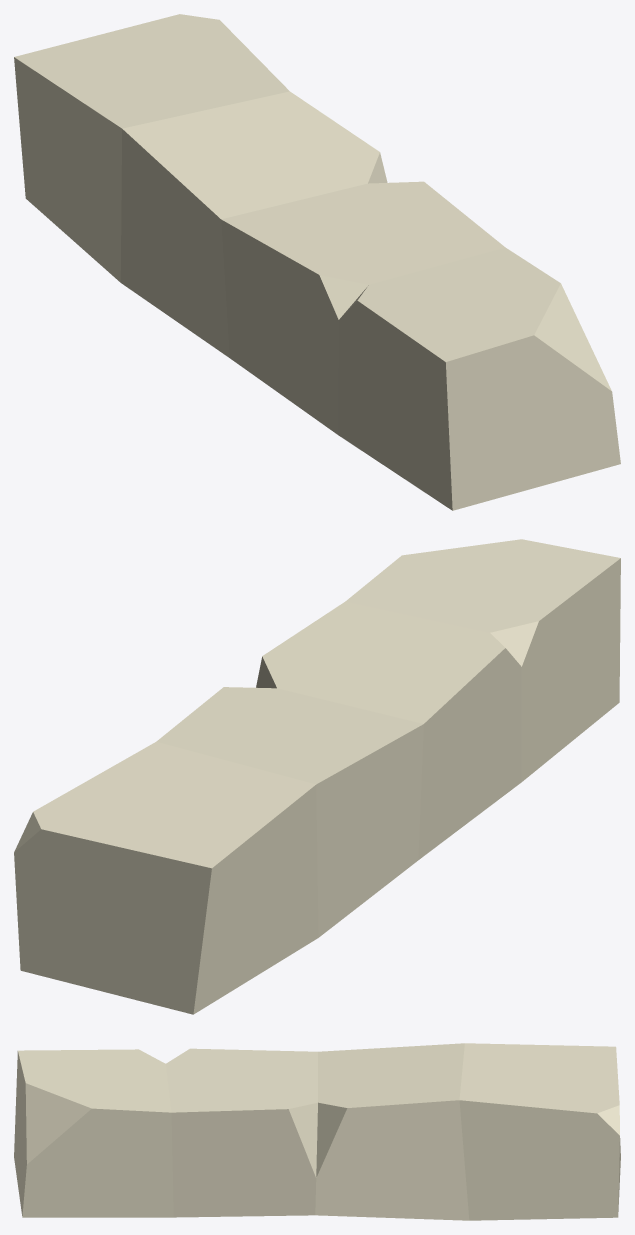
File: Ruin_1.fbx
3 renders of one model, top to bottom at view 1: azimuth 30°, elevation 25°; view 2: azimuth 150°, elevation 25°; view 3: azimuth 270°, elevation 25°, orthographic. The views are drawn at different scales.
Parts seen in each view (by area): view 1: Column.004; view 2: Column.004; view 3: Column.004.
Boxes of the visible parts, x1=… form: Column.004: x1=14, y1=14, x2=620, y2=510; Column.004: x1=14, y1=539, x2=620, y2=1014; Column.004: x1=14, y1=1043, x2=620, y2=1220.
Size of the model in its own units: 90.49 by 65.91 by 332.
